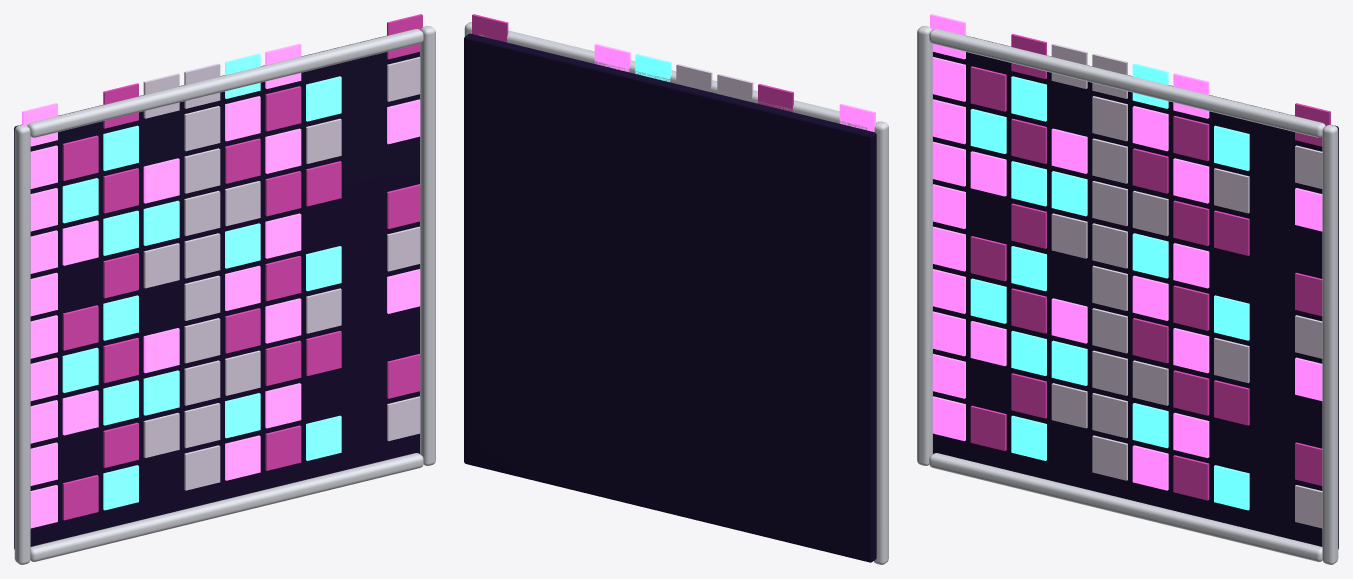
The model's file is led_wall_panel_2m.glb.
The picture shows the model from 3 angles, left to right: view 1: azimuth 30°, elevation 25°; view 2: azimuth 150°, elevation 25°; view 3: azimuth 330°, elevation 25°; orthographic projection.
Parts seen in each view (by area): view 1: led_wall_panel_2m; view 2: led_wall_panel_2m; view 3: led_wall_panel_2m.
Boxes of the visible parts, left/top/right/bottom form: led_wall_panel_2m: left=14, top=14, right=435, bottom=564; led_wall_panel_2m: left=464, top=14, right=888, bottom=564; led_wall_panel_2m: left=917, top=14, right=1338, bottom=564.
Bounding box in the file's own units: 2.06 × 2.12 × 0.11.
